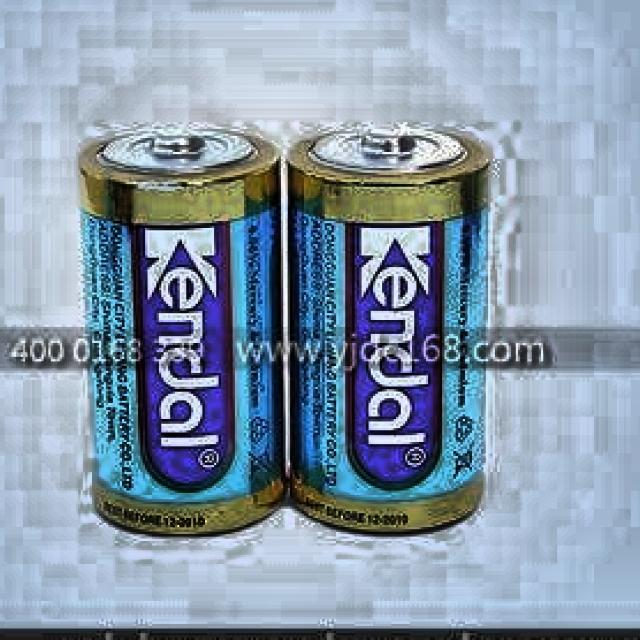Non-Valuable Waste - Batteries: (80, 127, 284, 534), (289, 128, 490, 532)
